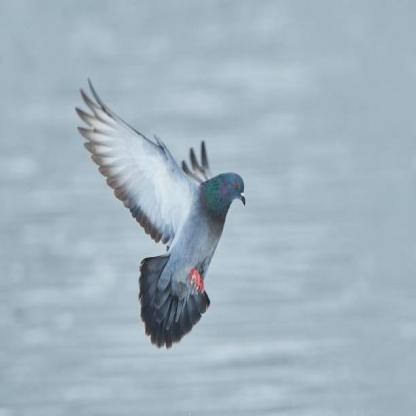Rock Pigeon: (109, 103, 246, 354)
